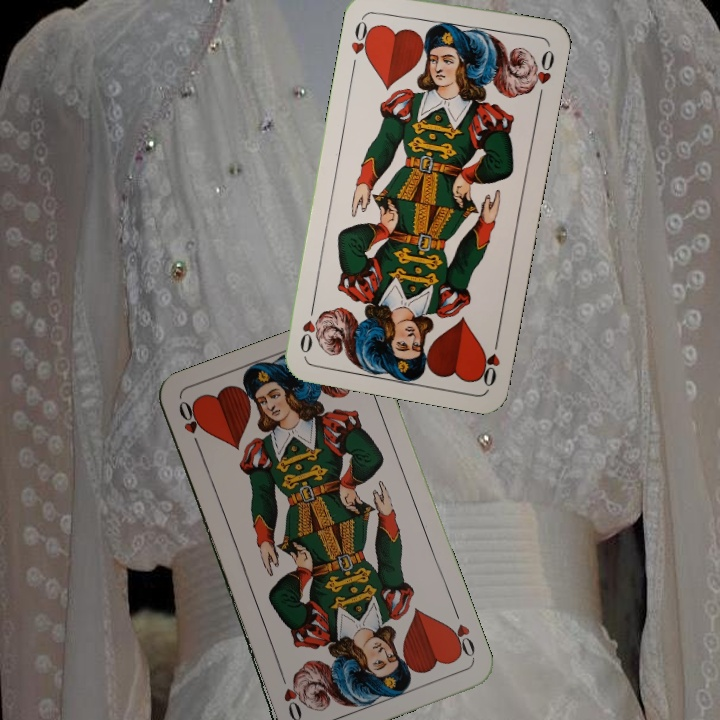HO: (443, 604, 478, 661), (346, 11, 377, 70), (174, 396, 204, 453), (475, 330, 503, 389)
